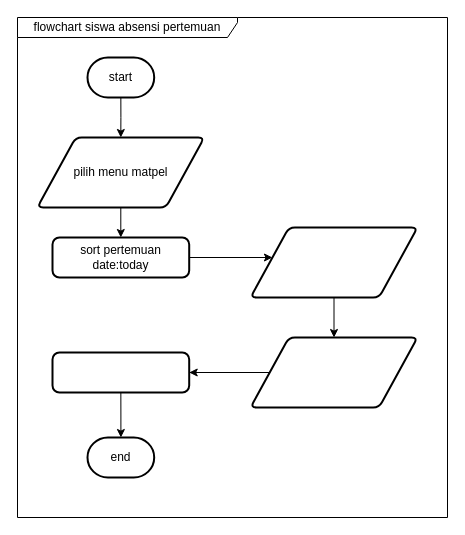
Image size: 465x535. Some labels were removed from this diagram. The shapes that lost their labels are listed below. From the top down, each one's centre as x and y in pixels, then its label:
At (x=333, y=262): "pilih pertemuan".
At (x=120, y=372): "absensi siswa".
At (x=333, y=372): "tekan absensi".
